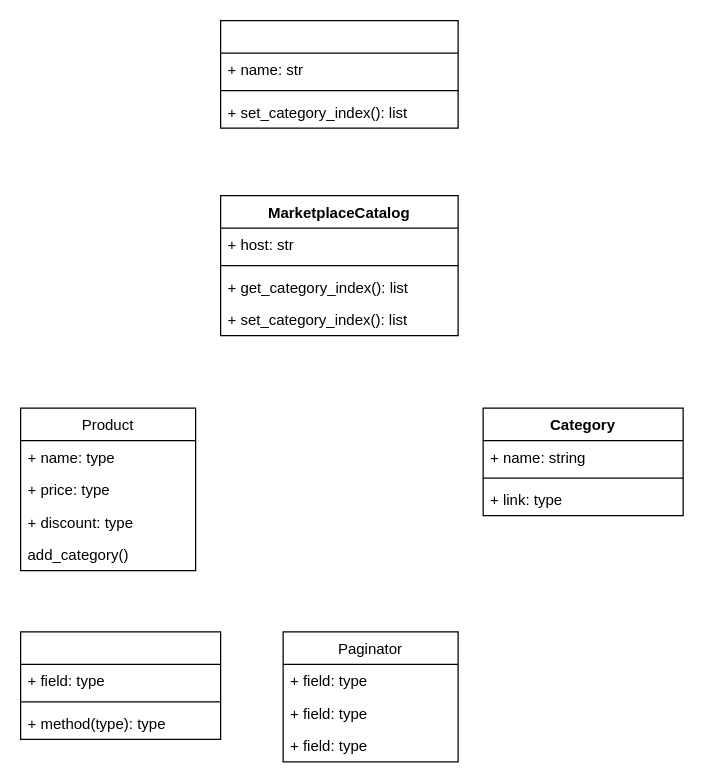
The diagram is 704 pixels wide and 783 high, and some of its shapes have lost their labels. Here are the shapes that lost their labels. From the top down, the box of each, then its label:
(219, 19, 458, 128): Catalog
(19, 631, 221, 739): Section
